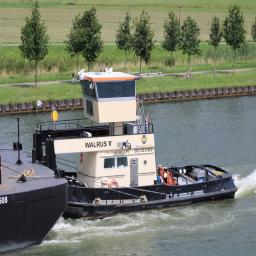tugboat: (33, 65, 240, 227)
